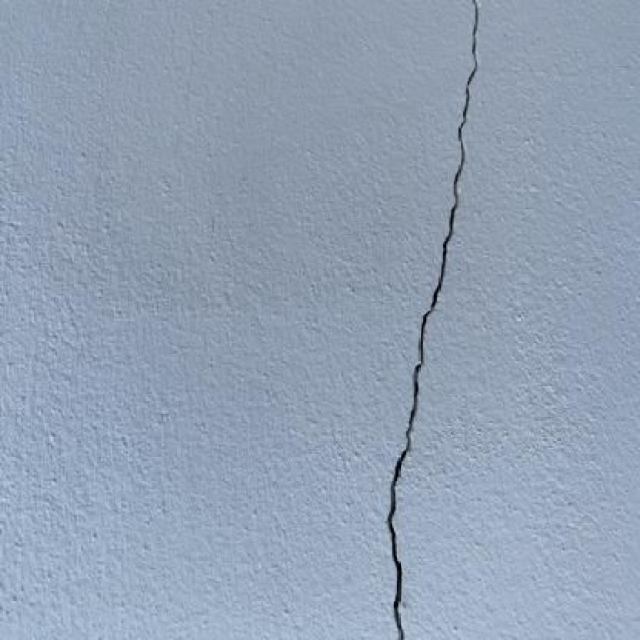vertical crack: (385, 3, 481, 637)
